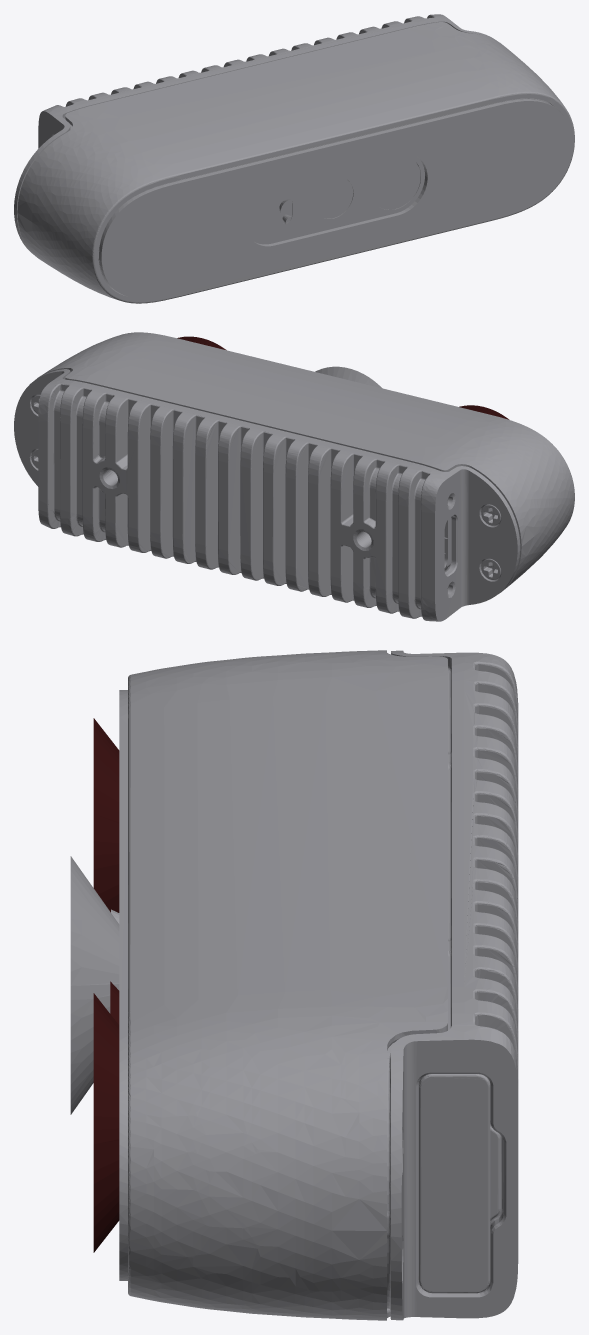
File: orbbec-gemini-336.glb
3 views of the same model, one above another, from view 1: azimuth 30°, elevation 25°; view 2: azimuth 150°, elevation 25°; view 3: azimuth 270°, elevation 25° (orthographic). The views are drawn at different scales.
Parts seen in each view (by area): view 1: orbbec-gemini-336; view 2: orbbec-gemini-336; view 3: orbbec-gemini-336.
Part boxes in pixels (x1,y1,x2,y2): orbbec-gemini-336: (14,14,574,303); orbbec-gemini-336: (14,332,574,621); orbbec-gemini-336: (70,650,518,1320).
Size of the model in its own units: 89.46 by 25.02 by 34.4.
